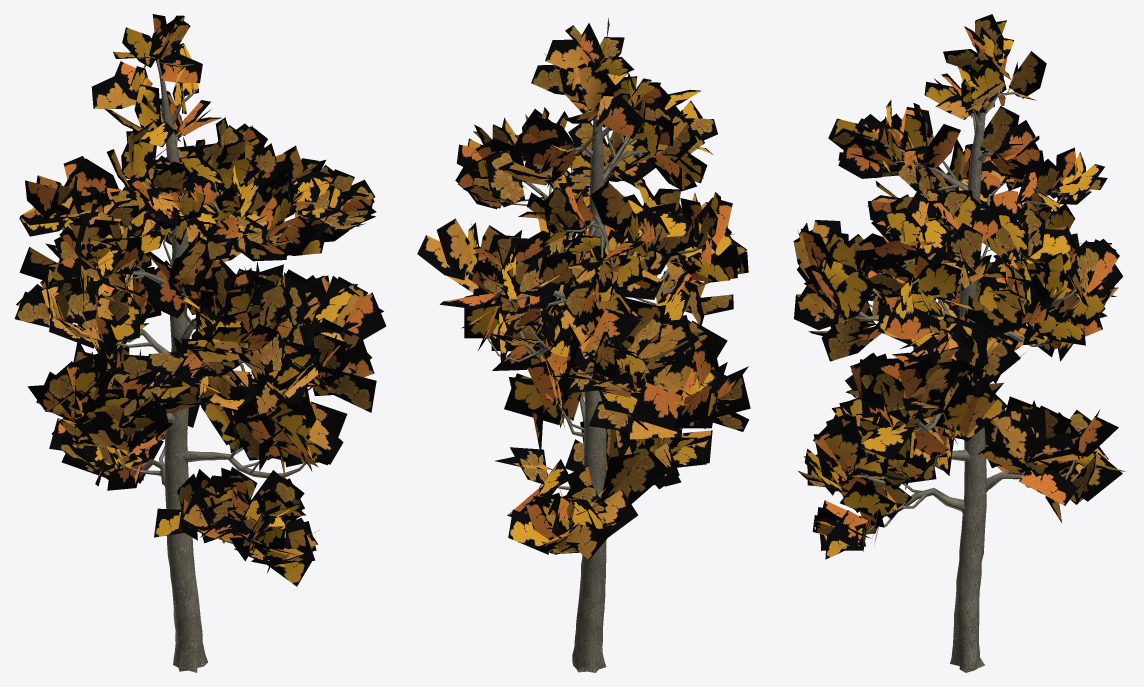
The model's file is Oak_White_Desktop_Field_3_001_Yellow_ac63d7.glb.
The picture shows the model from 3 angles, left to right: view 1: azimuth 30°, elevation 25°; view 2: azimuth 150°, elevation 25°; view 3: azimuth 270°, elevation 25°; orthographic projection. The views are drawn at different scales.
Size of the model in its own units: 5.99 by 11.8 by 5.85.
Materials: 2 (2 with a texture image).
